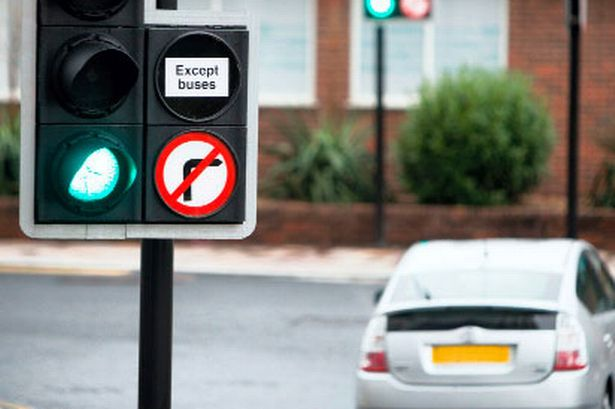No_right_turn: (153, 132, 237, 218)
